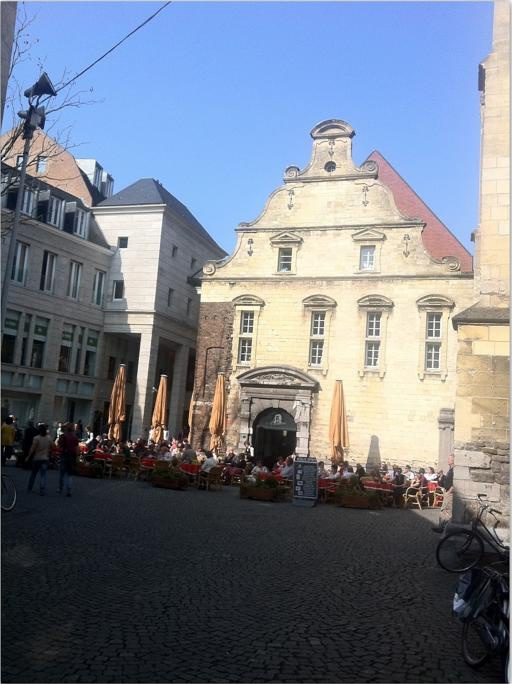non-vehicle: (451, 566, 511, 682), (435, 493, 510, 571), (0, 467, 17, 511)
